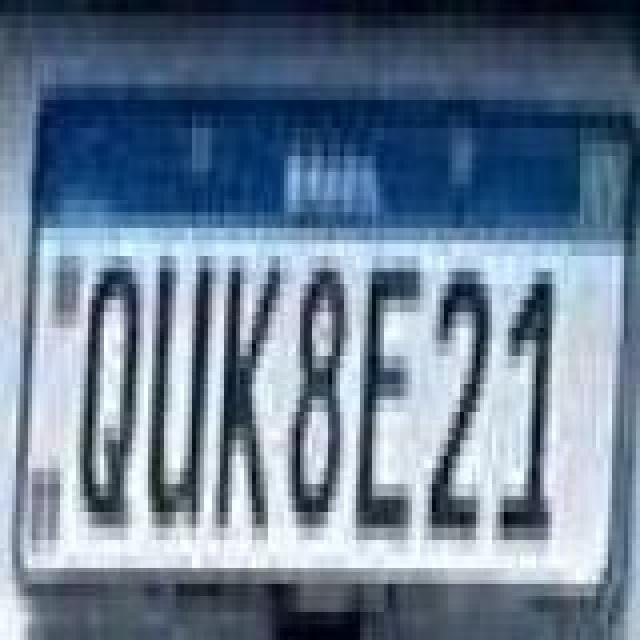1: (494, 266, 562, 550)
2: (426, 272, 494, 544)
8: (286, 258, 354, 542)
E: (356, 258, 428, 542)
K: (212, 258, 284, 542)
Q: (78, 258, 146, 542)
U: (144, 250, 216, 550)
